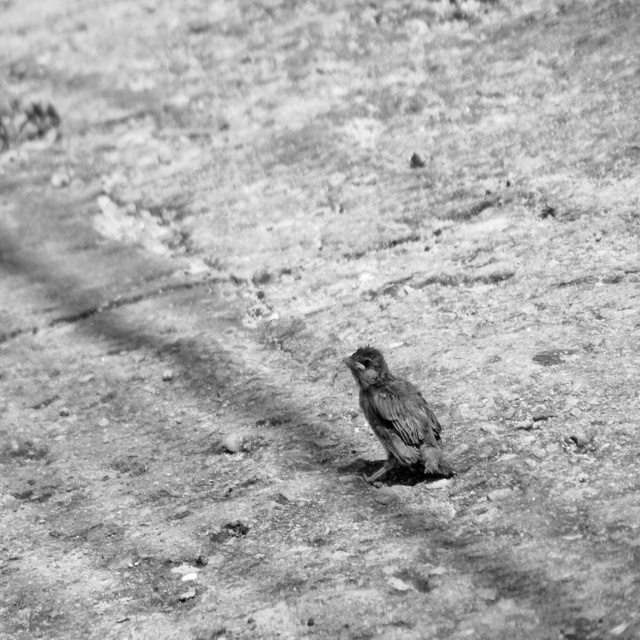Sparrow: (342, 344, 454, 479)
